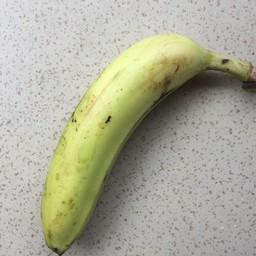Good_banana: (39, 22, 251, 256)
